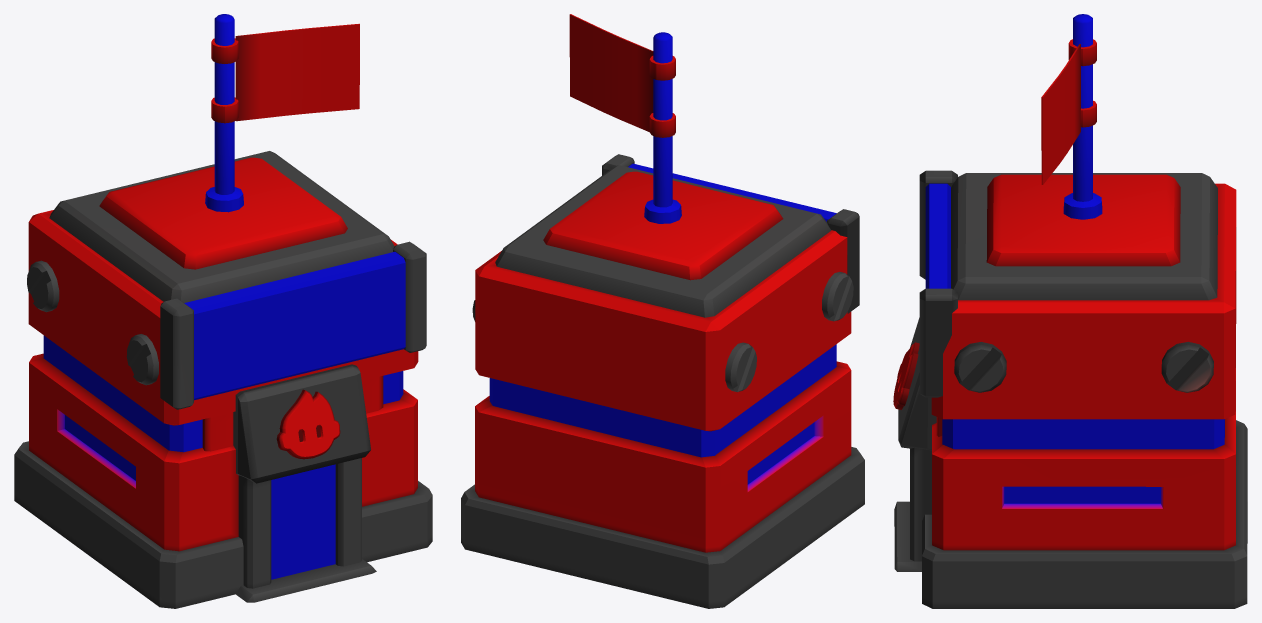
Rendered from DefaultTower.fbx.
3 views of the same model, side by side, from view 1: azimuth 30°, elevation 25°; view 2: azimuth 150°, elevation 25°; view 3: azimuth 270°, elevation 25° (orthographic). The views are drawn at different scales.
Visible parts, largest first — view 1: 3D_EnemyBase_NEW; view 2: 3D_EnemyBase_NEW; view 3: 3D_EnemyBase_NEW.
Boxes of the visible parts, x1,y1,x2,y2 form: 3D_EnemyBase_NEW: (14, 14, 432, 608); 3D_EnemyBase_NEW: (461, 14, 864, 608); 3D_EnemyBase_NEW: (893, 14, 1247, 608).
Size of the model in its own units: 116 by 205 by 125.
